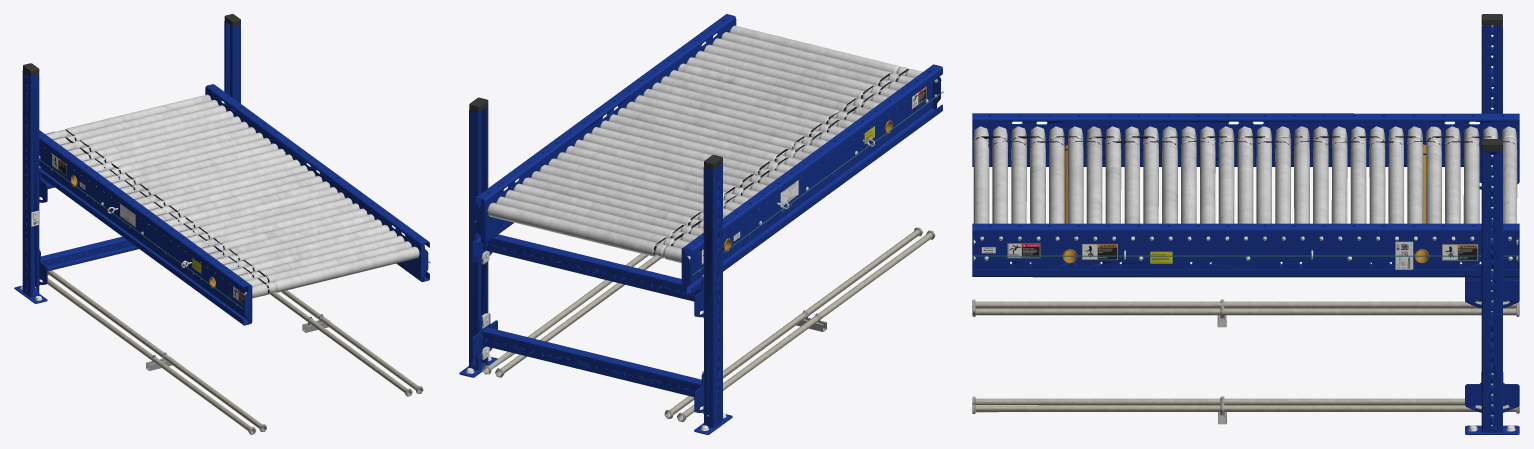
Rendered from conveyor_straight.glb.
The picture shows the model from 3 angles, left to right: view 1: azimuth 30°, elevation 25°; view 2: azimuth 150°, elevation 25°; view 3: azimuth 270°, elevation 25°; orthographic projection. The views are drawn at different scales.
Visible parts, largest first — view 1: conveyor_straight_mesh; view 2: conveyor_straight_mesh; view 3: conveyor_straight_mesh.
Boxes of the visible parts, left/top/right/bottom form: conveyor_straight_mesh: left=14, top=14, right=430, bottom=434; conveyor_straight_mesh: left=459, top=14, right=943, bottom=434; conveyor_straight_mesh: left=972, top=14, right=1519, bottom=434.
Size of the model in its own units: 1.15 by 1.17 by 2.
Materials: 9 (4 with a texture image).
